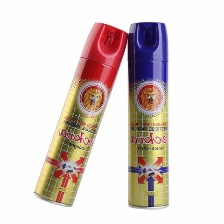aerosol_cans: (29, 18, 131, 210), (125, 16, 170, 213)
